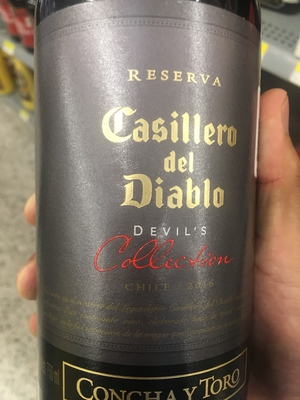casillero del diablo devils collection rojo: (35, 9, 263, 400)
